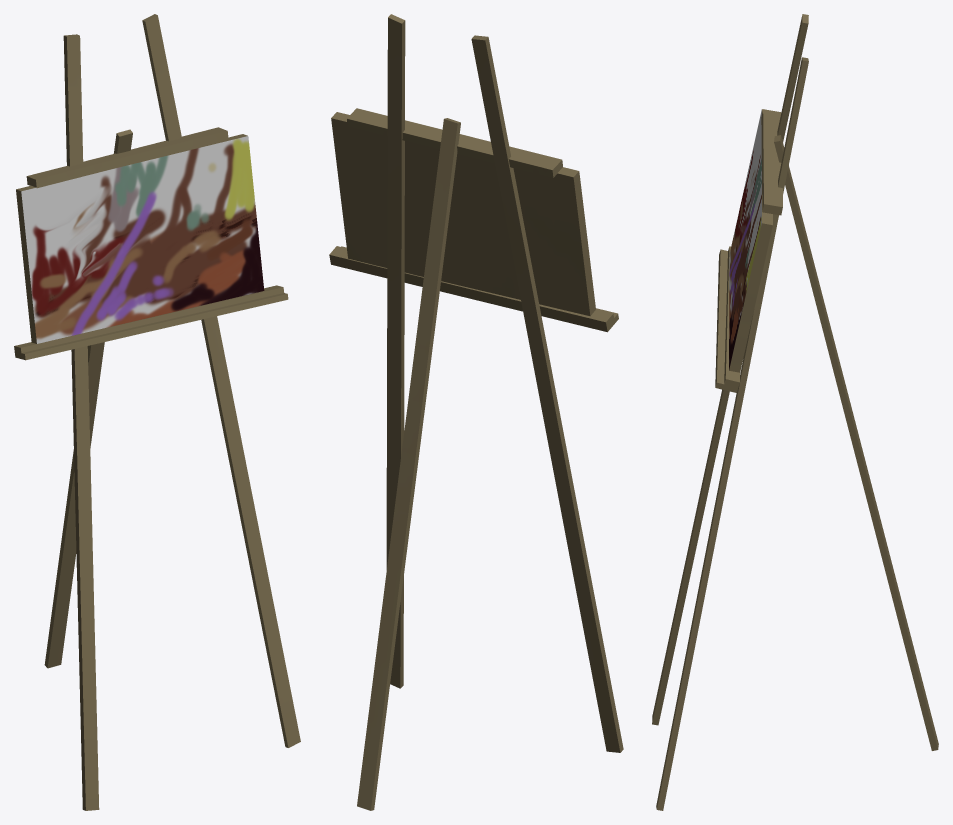
Rendered from molberts.fbx.
3 views of the same model, side by side, from view 1: azimuth 30°, elevation 25°; view 2: azimuth 150°, elevation 25°; view 3: azimuth 270°, elevation 25° (orthographic). The views are drawn at different scales.
Parts seen in each view (by area): view 1: Cube.002; view 2: Cube.002; view 3: Cube.002.
Boxes of the visible parts, left/top/right/bottom form: Cube.002: left=14, top=14, right=300, bottom=810; Cube.002: left=329, top=14, right=623, bottom=810; Cube.002: left=652, top=14, right=938, bottom=810.
Bounding box in the file's own units: 1.34 × 3.48 × 1.24.
Materials: 1 (1 with a texture image).
